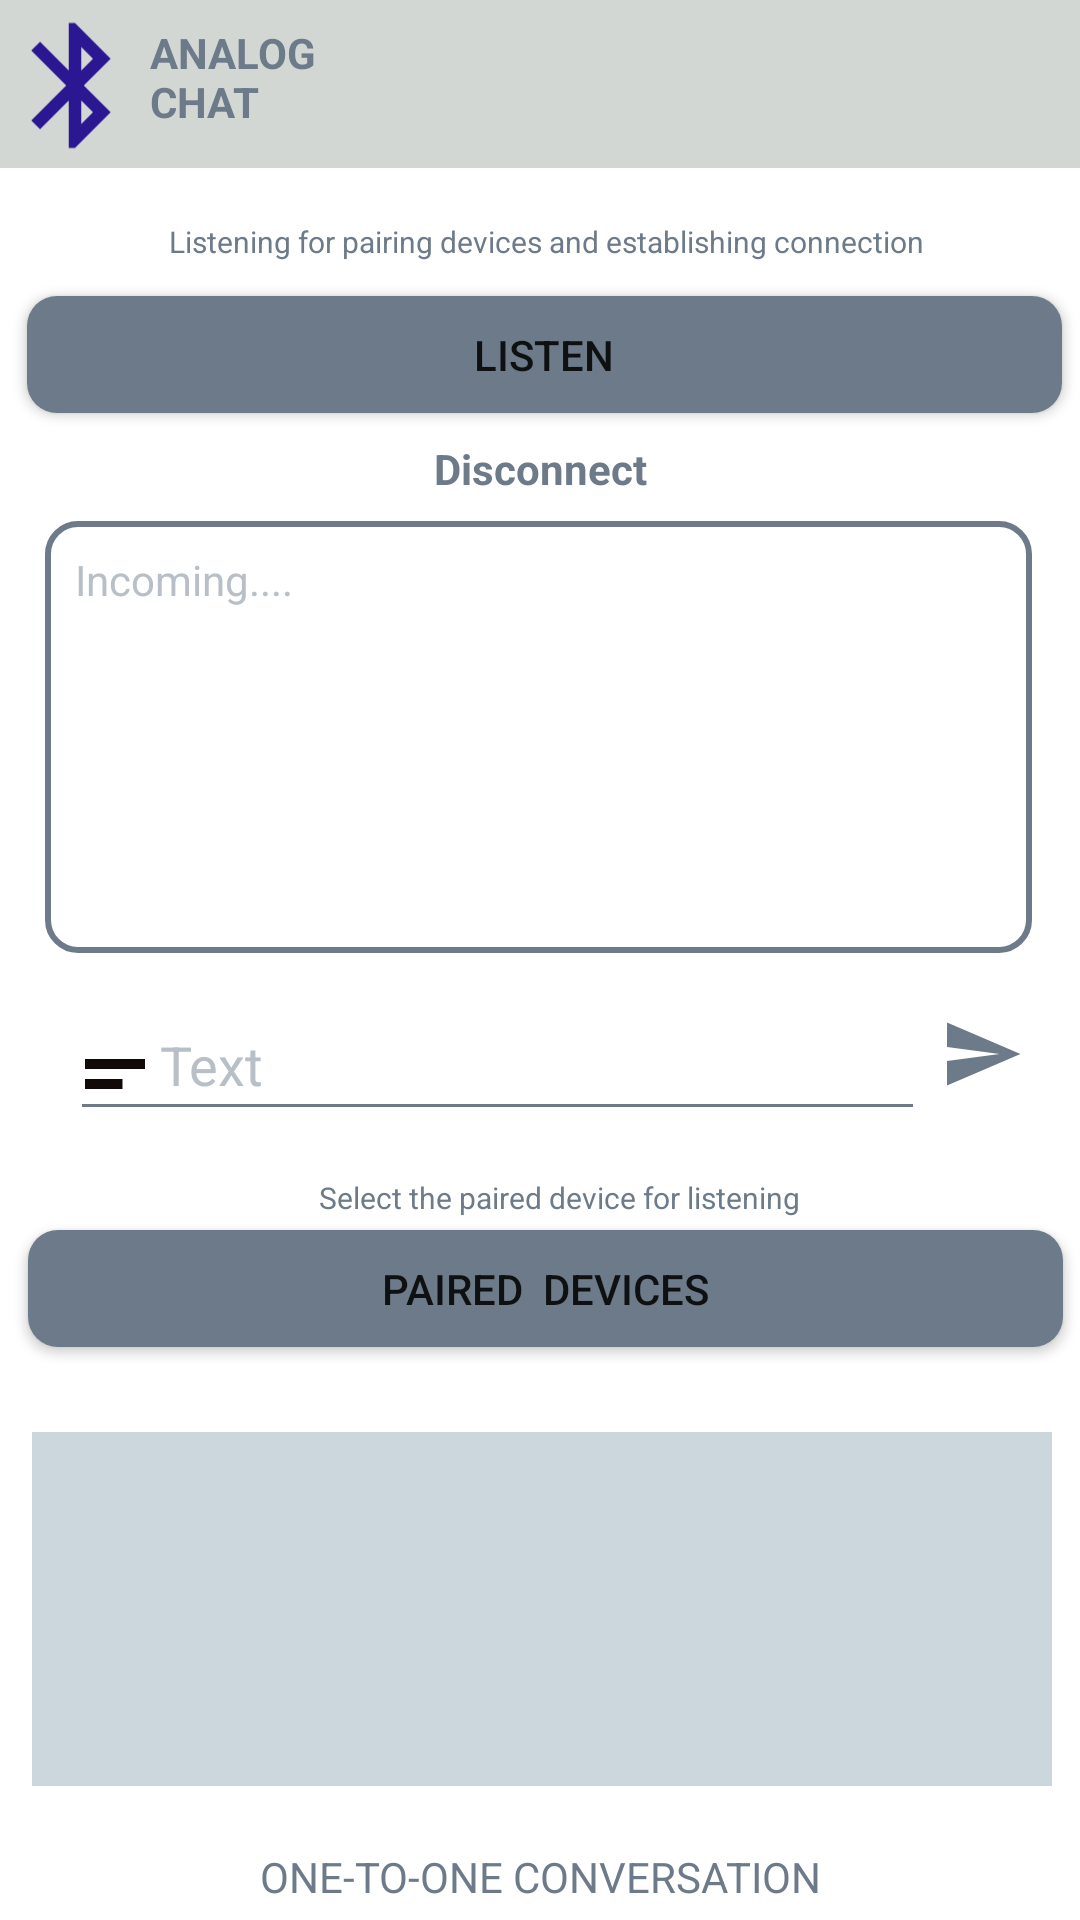

Icons on this 1080*1920 Android screen, each with the point to tap as (x=x, y=y):
send: (x=983, y=1054)
